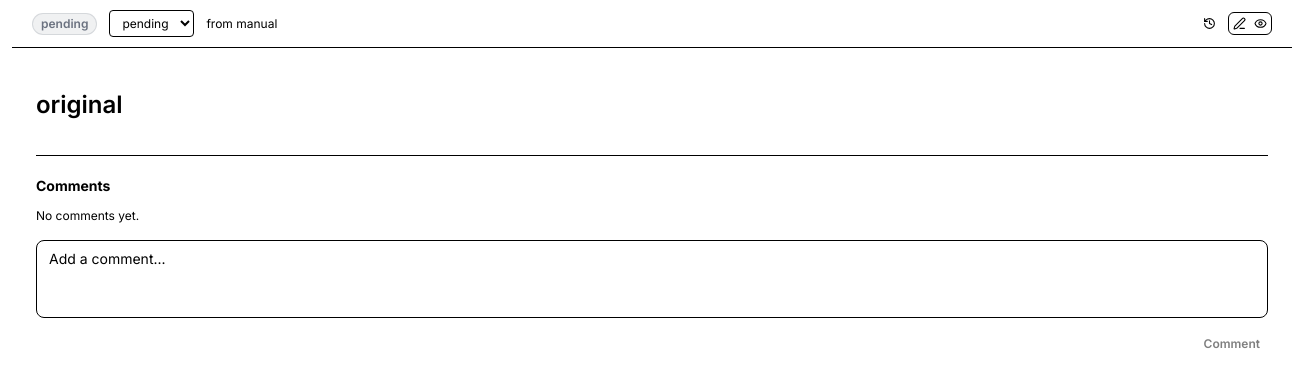
Test: TaskDetailBody failed saves › clears the failure once a retry succeeds
Click the button titled "Edit" at (1240, 24), box 1229,13 -> 1250,34
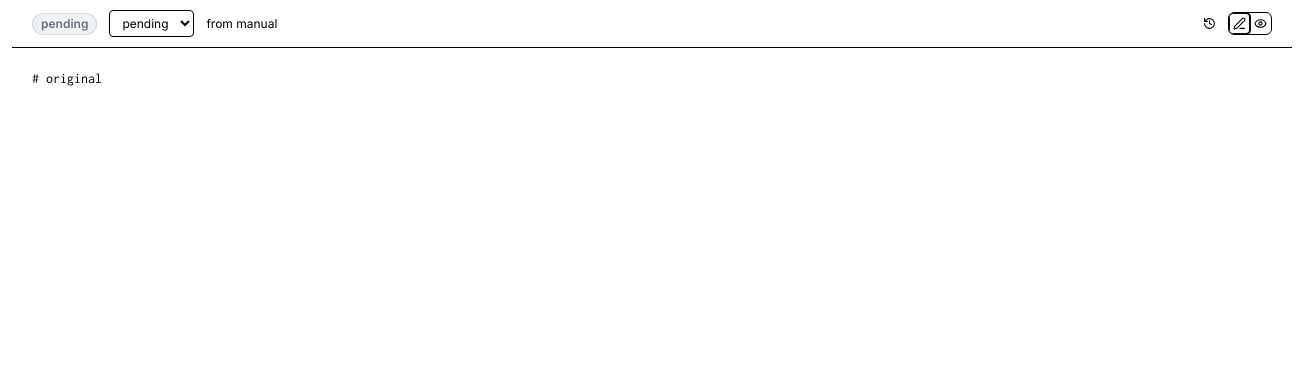
Type "!" into the text box with placeholder "Task content..." at (652, 91), box 12,48 -> 1292,134
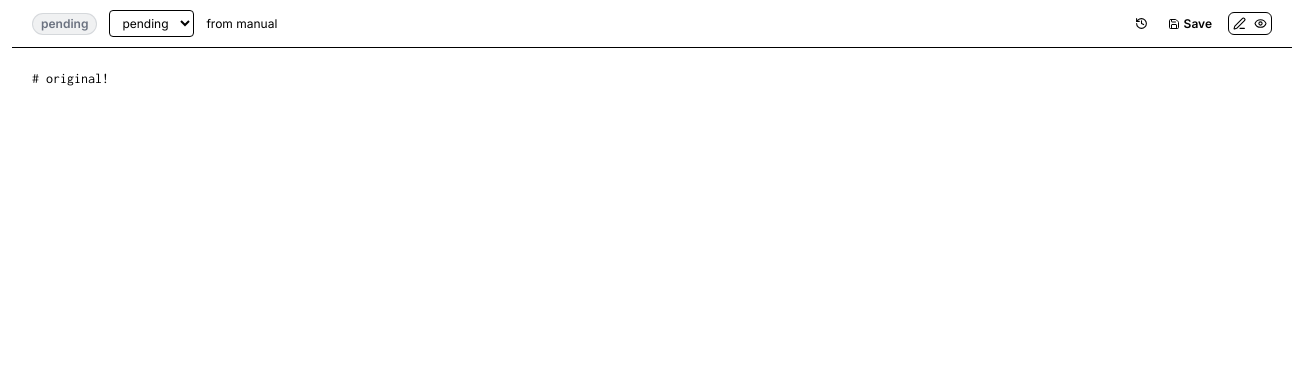
Click the button "Save" at (1190, 24), box 1160,12 -> 1220,36
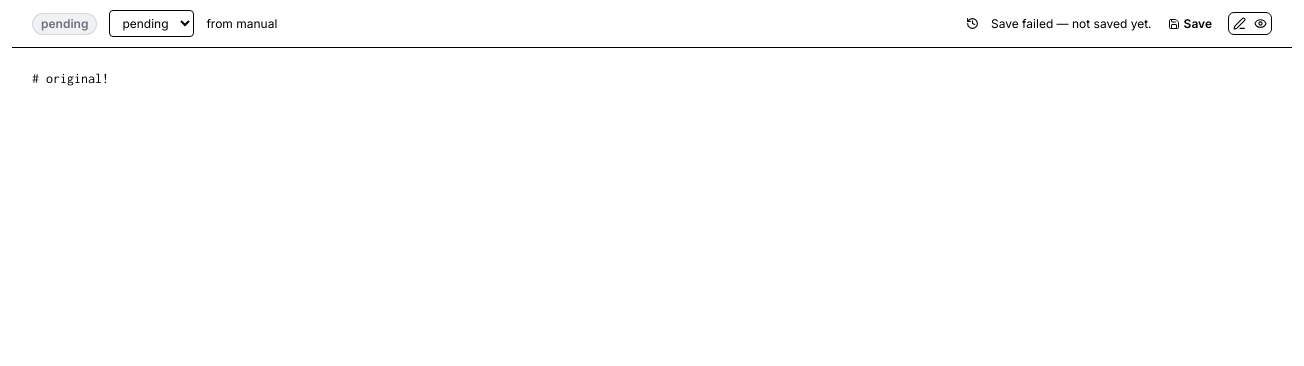
Click the button "Save" at (1190, 24), box 1160,12 -> 1220,36
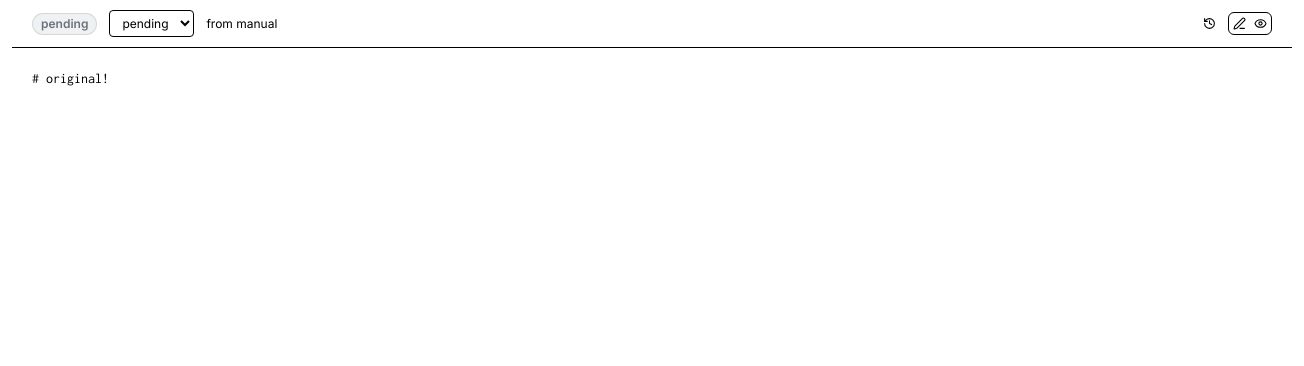
Check: the message "Save failed — not saved yet." is gone
Check: the message "Save" is gone
